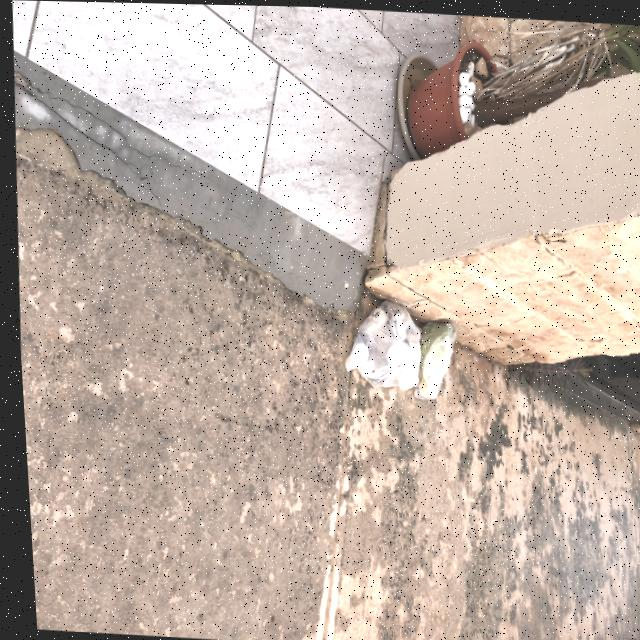Organic Waste -White Bag-: (336, 299, 421, 392), (404, 316, 458, 407)
